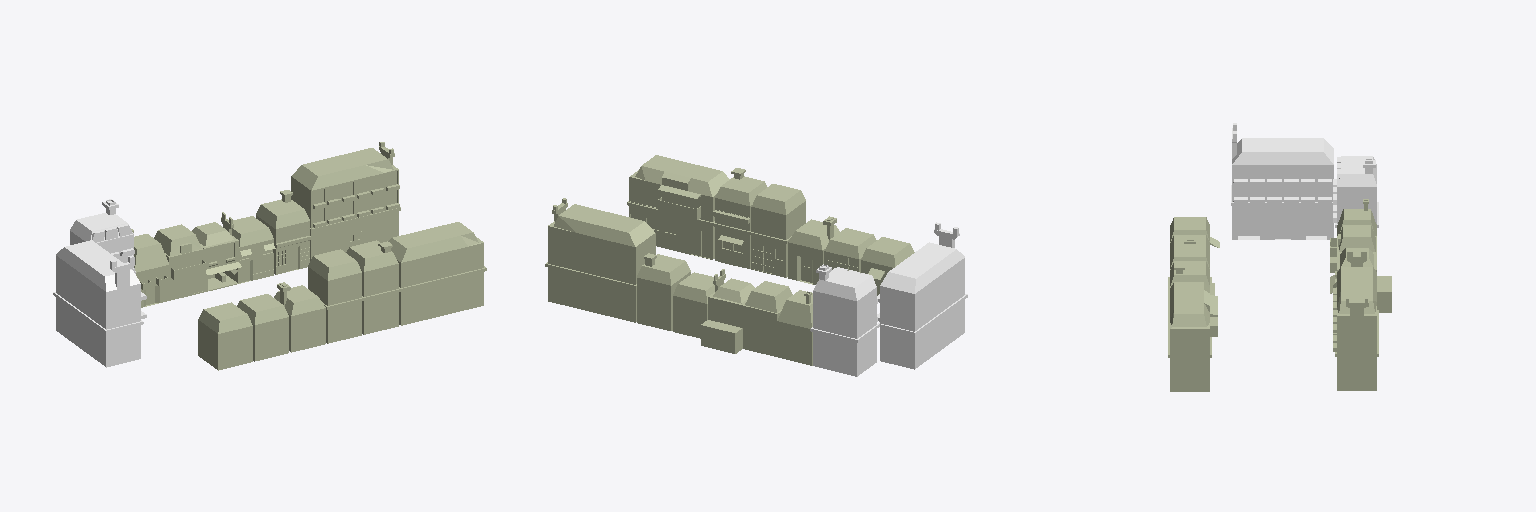
Rendered from building_06.obj.
The picture shows the model from 3 angles: view 1: azimuth 30°, elevation 25°; view 2: azimuth 150°, elevation 25°; view 3: azimuth 270°, elevation 25°; orthographic projection.
Parts seen in each view (by area): view 1: Cube3_copy6, Cube3_copy8, Cube3_copy16, Cube3_copy14, Cube3_copy15, Cube3_copy11, Cube3_copy5, Cube2, Cube4, Cube3_copy13, Cube3_copy12, Cube3_copy7 (+2 smaller); view 2: Cube3_copy6, Cube3_copy8, Cube3_copy16, Cube3_copy7, Cube3_copy14, Cube3_copy15, Cube3_copy5, Cube4, Cube2, Cube3, Cube3_copy13, Cube3_copy4 (+2 smaller); view 3: Cube3_copy8, Cube3_copy6, Cube3_copy16, Cube3_copy7, Cube4, Cube2, Cube3_copy15, Cube3_copy11, Cube3_copy14, Cube3.
Boxes of the visible parts, box(x1,y1,x2,y2) form: Cube3_copy6: box(291, 142, 400, 260); Cube3_copy8: box(53, 240, 146, 367); Cube3_copy16: box(388, 222, 486, 325); Cube3_copy14: box(308, 249, 363, 343); Cube3_copy15: box(346, 240, 400, 334); Cube3_copy11: box(198, 302, 252, 370); Cube3_copy5: box(256, 190, 310, 274); Cube2: box(154, 224, 205, 300); Cube4: box(192, 212, 241, 291); Cube3_copy13: box(274, 282, 325, 352); Cube3_copy12: box(237, 294, 288, 361); Cube3_copy7: box(70, 199, 135, 273); Cube3_copy6: box(545, 198, 655, 322); Cube3_copy8: box(877, 222, 967, 369); Cube3_copy16: box(627, 155, 729, 259); Cube3_copy7: box(810, 264, 879, 376); Cube3_copy14: box(751, 184, 805, 277); Cube3_copy15: box(713, 168, 766, 268); Cube3_copy5: box(637, 253, 690, 330); Cube4: box(701, 269, 754, 353); Cube2: box(743, 281, 792, 356); Cube3: box(777, 290, 812, 365); Cube3_copy13: box(788, 216, 839, 284); Cube3_copy4: box(673, 272, 714, 338); Cube3_copy8: box(1231, 123, 1333, 239); Cube3_copy6: box(1333, 267, 1378, 390); Cube3_copy16: box(1168, 282, 1217, 391); Cube3_copy7: box(1333, 156, 1378, 227); Cube4: box(1330, 248, 1391, 312); Cube2: box(1330, 225, 1376, 272); Cube3_copy15: box(1168, 261, 1214, 312); Cube3_copy11: box(1170, 217, 1219, 247); Cube3_copy14: box(1168, 244, 1211, 295); Cube3: box(1330, 199, 1376, 246).
Bounding box in the file's own units: 2759 × 779 × 1524.